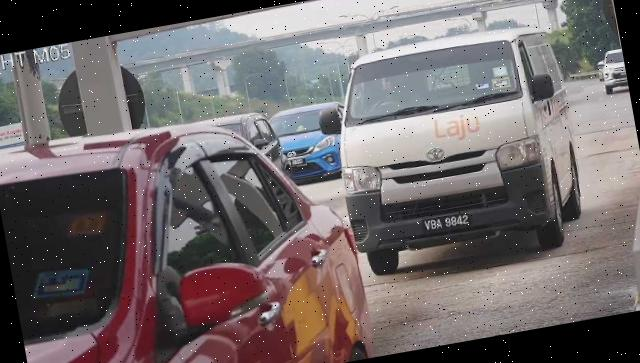License_Plate: (420, 209, 474, 239)
van: (321, 19, 592, 284)
